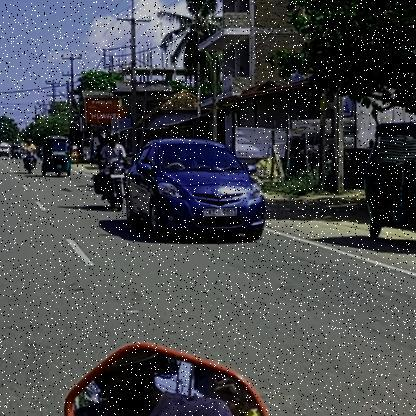motorcycle: (93, 158, 130, 214)
